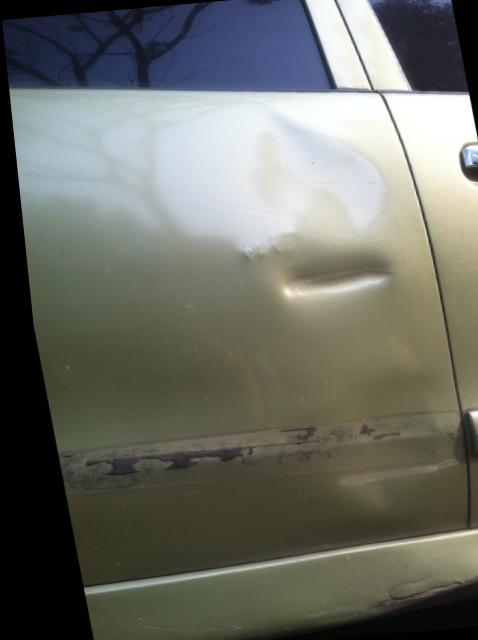dent: (248, 105, 378, 230), (322, 374, 427, 507), (276, 252, 391, 297)
scratch: (47, 424, 325, 495)
